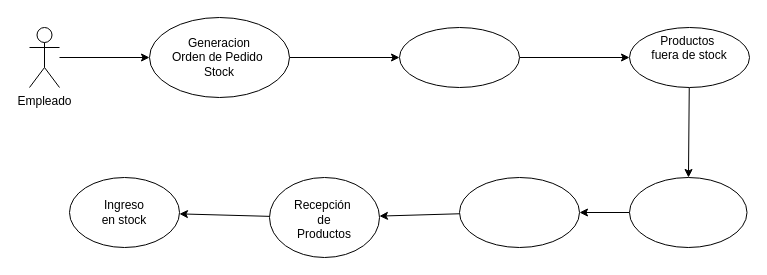
This 767x275 diagram has some shape labels left out. The centre of each missing label's shape, as x and y in pixels:
"Aprobación de Orden compra" goes at (x=519, y=212).
"Aprobación de Orden Pedido" goes at (x=459, y=57).
"Generación de Orden compra" goes at (x=687, y=212).
